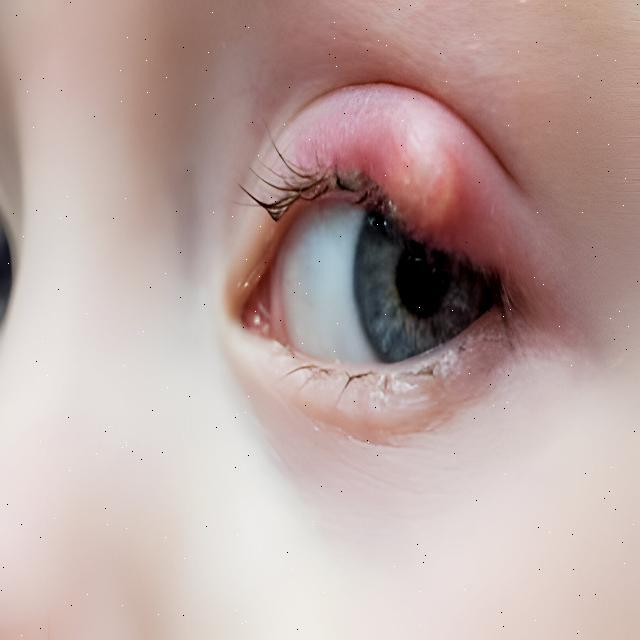Stye: (322, 116, 535, 264)
